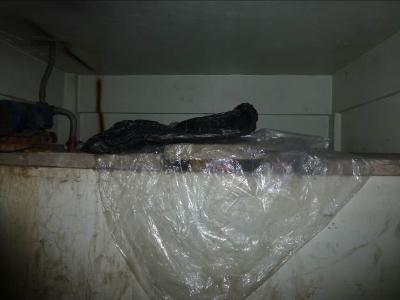plastic_bag: (97, 129, 379, 300), (84, 103, 264, 152)
